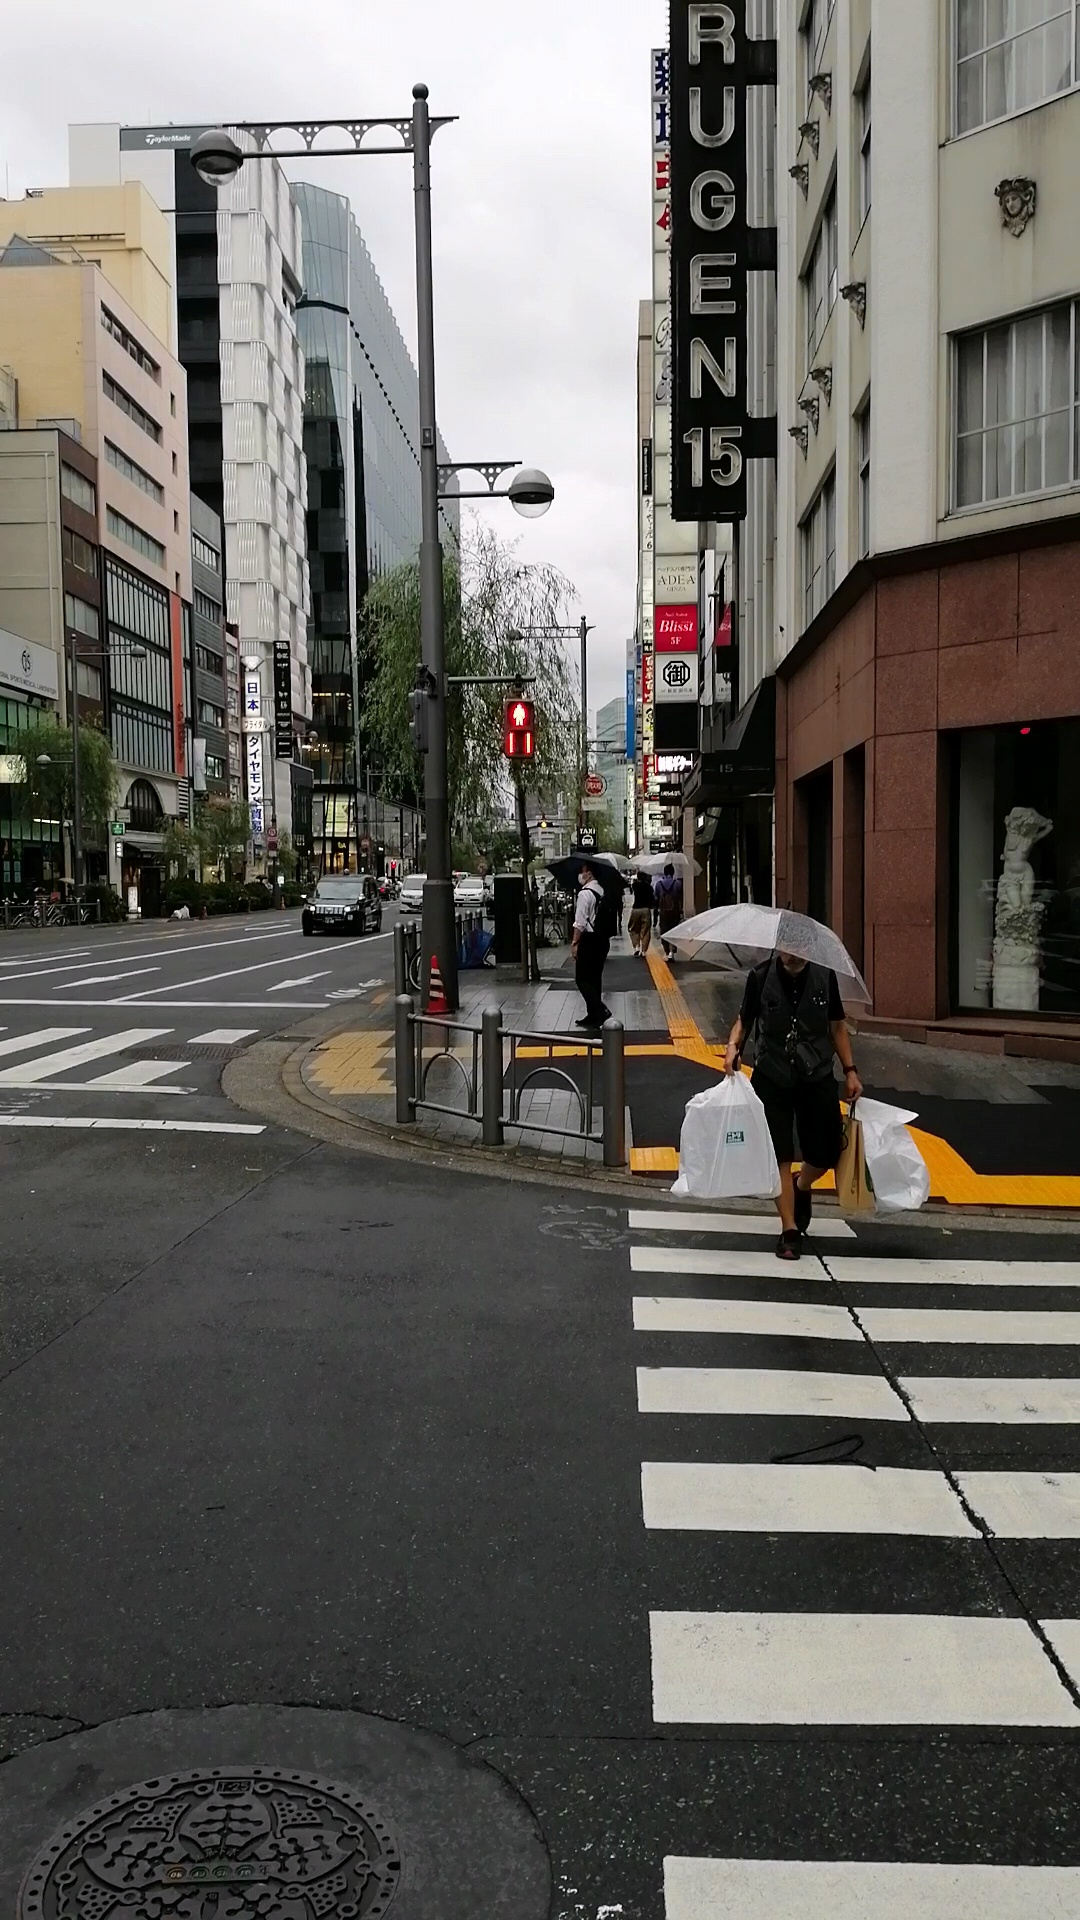red: (502, 699, 537, 760)
